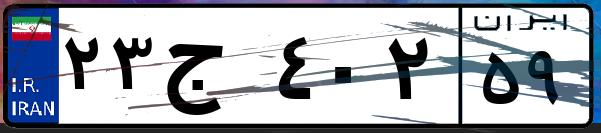0: (330, 28, 385, 110)
2: (385, 28, 445, 110), (57, 26, 110, 100)
3: (110, 28, 158, 98)
4: (270, 28, 330, 110)
5: (475, 38, 525, 113)
9: (525, 38, 570, 115)
ج: (158, 20, 270, 120)
